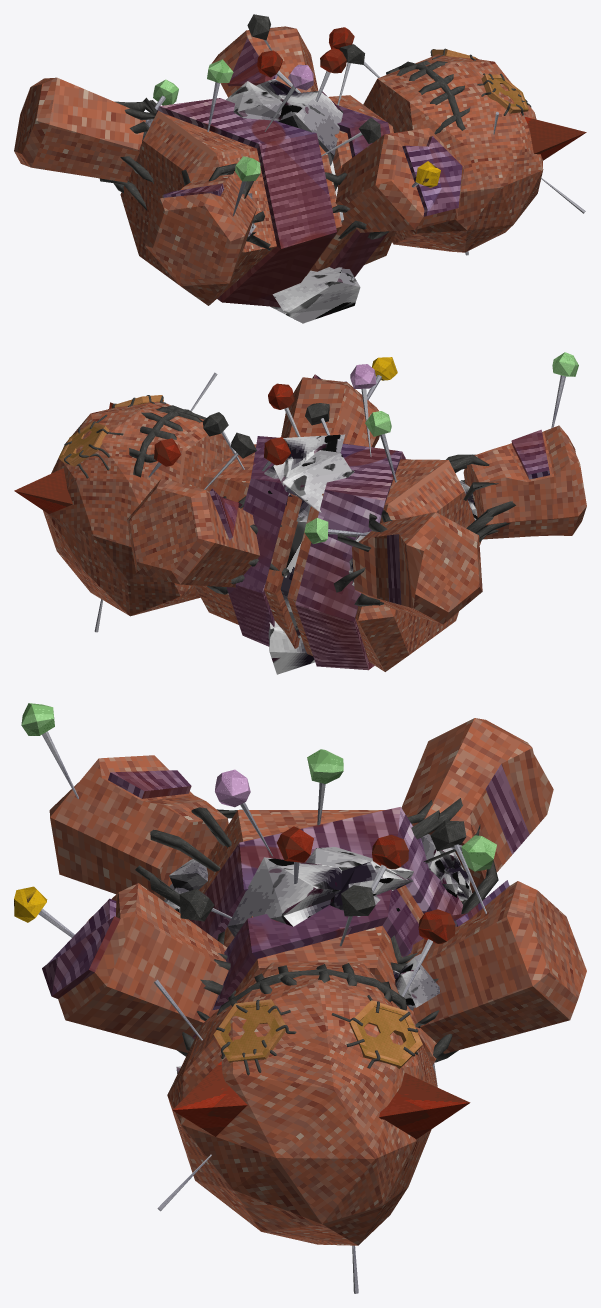
File: Voodoo.fbx
3 renders of one model, top to bottom at view 1: azimuth 30°, elevation 25°; view 2: azimuth 150°, elevation 25°; view 3: azimuth 270°, elevation 25°, orthographic. The views are drawn at different scales.
Visible parts, largest first — view 1: BézierCurve.007; view 2: BézierCurve.007; view 3: BézierCurve.007.
Part boxes in pixels (x1=…): BézierCurve.007: x1=14, y1=14, x2=586, y2=323; BézierCurve.007: x1=14, y1=352, x2=586, y2=674; BézierCurve.007: x1=14, y1=703, x2=586, y2=1293.
Size of the model in its own units: 0.1364 by 0.0787 by 0.1063.
11 materials, 11 textured.
